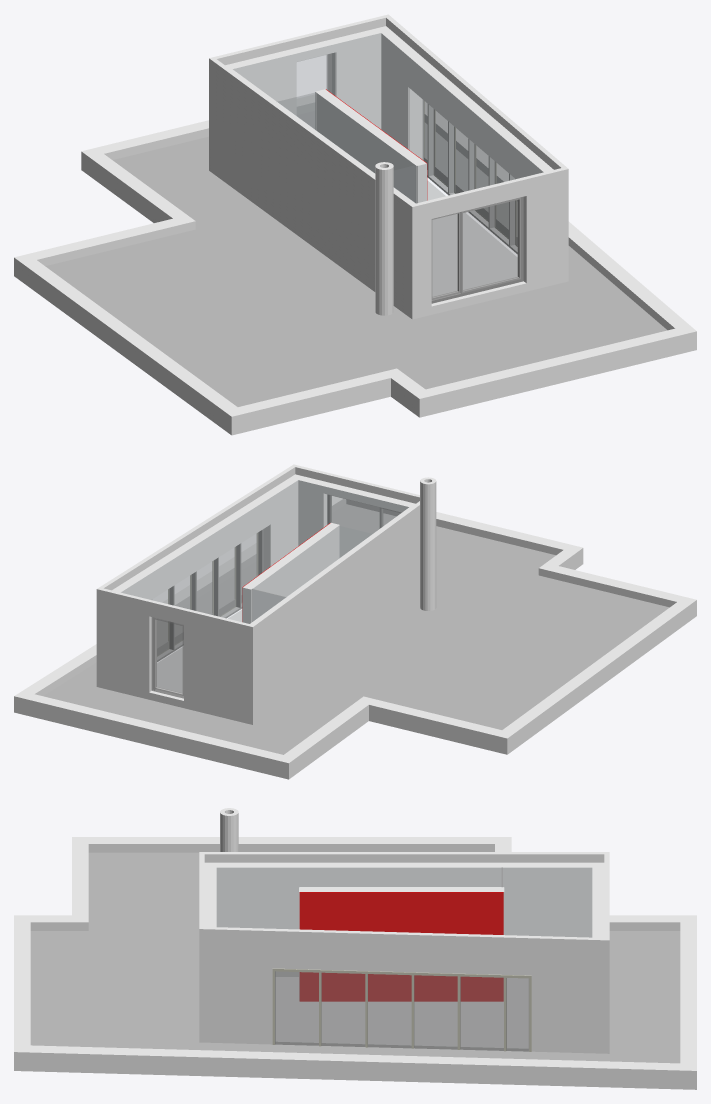
The picture shows the model from 3 angles, top to bottom: view 1: azimuth 30°, elevation 25°; view 2: azimuth 150°, elevation 25°; view 3: azimuth 270°, elevation 25°; orthographic projection. The views are drawn at different scales.
Parts seen in each view (by area): view 1: 0hm_TZ7fj2wQv5AxxV1KqF, 2WZdO$9lP51fVli8sT5dFZ, 1XbKhGD91DvhOpYZbhzGTI, 2ABTOtP4HAZgIuV7LUYbfs, 2eKNhkT$f0P8WjqeWWO9d3, 3v_fSEaFj0kvittt0GMC6P, 3VFVgZuu9FQuS2Mqppb_Sx, 1xDxwUqSzFmuKUZMtQ$inu, 0esmtE2Hf1Gh7NvUntvp15, 1E8YkwPMfB$h99jtn_uAjI, 2k7AL9Q4vAfOld2Ju8s3DV, 1BGpia0iv9cfH1lqT0_P80 (+15 smaller); view 2: 0hm_TZ7fj2wQv5AxxV1KqF, 2WZdO$9lP51fVli8sT5dFZ, 1mrgg_O_bBBv_tvdtVwK59, 1JvbY8kMDEABlCGvBALl1o, 3VFVgZuu9FQuS2Mqppb_Sx, 3v_fSEaFj0kvittt0GMC6P, 1E8YkwPMfB$h99jtn_uAjI, 3qjAeGBfzBuuFMRvmfvcZp, 12tTUwhDX7_Q0B3Y0eszsq, 1BGpia0iv9cfH1lqT0_P80, 3fk360iVDEdvsphxoNSy5M, 2eKNhkT$f0P8WjqeWWO9d3 (+16 smaller); view 3: 0hm_TZ7fj2wQv5AxxV1KqF, 1E8YkwPMfB$h99jtn_uAjI, 1BGpia0iv9cfH1lqT0_P80, 2D8Lqs0AfAL91eMWImqY0y, 0esmtE2Hf1Gh7NvUntvp15, 2WZdO$9lP51fVli8sT5dFZ, 3yGz3Axn9C_Oiq75x5GOZW, 3v_fSEaFj0kvittt0GMC6P, 0fovPR3hjBTOiDxHc0SKR9, 2UKE52UPL1ePRWFkZqVfWm, 28Fol_2rT8D93IPNMW2ztB, 14rw$C3xD3ZeUJL3YaqCEK (+13 smaller).
Part boxes in pixels (x1=…): 0hm_TZ7fj2wQv5AxxV1KqF: x1=45, y1=111, x2=667, y2=406; 2WZdO$9lP51fVli8sT5dFZ: x1=211, y1=59, x2=414, y2=317; 1XbKhGD91DvhOpYZbhzGTI: x1=409, y1=167, x2=568, y2=319; 2ABTOtP4HAZgIuV7LUYbfs: x1=431, y1=196, x2=523, y2=303; 2eKNhkT$f0P8WjqeWWO9d3: x1=416, y1=326, x2=696, y2=417; 3v_fSEaFj0kvittt0GMC6P: x1=16, y1=258, x2=242, y2=435; 3VFVgZuu9FQuS2Mqppb_Sx: x1=381, y1=32, x2=543, y2=178; 1xDxwUqSzFmuKUZMtQ$inu: x1=232, y1=32, x2=381, y2=129; 0esmtE2Hf1Gh7NvUntvp15: x1=427, y1=180, x2=517, y2=296; 1E8YkwPMfB$h99jtn_uAjI: x1=377, y1=14, x2=565, y2=171; 2k7AL9Q4vAfOld2Ju8s3DV: x1=234, y1=368, x2=401, y2=433; 1BGpia0iv9cfH1lqT0_P80: x1=424, y1=101, x2=693, y2=330; 0hm_TZ7fj2wQv5AxxV1KqF: x1=43, y1=504, x2=669, y2=754; 2WZdO$9lP51fVli8sT5dFZ: x1=250, y1=501, x2=419, y2=722; 1mrgg_O_bBBv_tvdtVwK59: x1=100, y1=588, x2=255, y2=724; 1JvbY8kMDEABlCGvBALl1o: x1=14, y1=692, x2=291, y2=779; 3VFVgZuu9FQuS2Mqppb_Sx: x1=120, y1=480, x2=298, y2=599; 3v_fSEaFj0kvittt0GMC6P: x1=502, y1=598, x2=696, y2=752; 1E8YkwPMfB$h99jtn_uAjI: x1=96, y1=466, x2=297, y2=687; 3qjAeGBfzBuuFMRvmfvcZp: x1=359, y1=696, x2=509, y2=754; 12tTUwhDX7_Q0B3Y0eszsq: x1=252, y1=525, x2=338, y2=621; 1BGpia0iv9cfH1lqT0_P80: x1=17, y1=496, x2=346, y2=695; 3fk360iVDEdvsphxoNSy5M: x1=151, y1=617, x2=183, y2=698; 2eKNhkT$f0P8WjqeWWO9d3: x1=346, y1=499, x2=583, y2=565; 0hm_TZ7fj2wQv5AxxV1KqF: x1=30, y1=852, x2=680, y2=1063; 1E8YkwPMfB$h99jtn_uAjI: x1=204, y1=927, x2=609, y2=1053; 1BGpia0iv9cfH1lqT0_P80: x1=19, y1=1045, x2=691, y2=1089; 2D8Lqs0AfAL91eMWImqY0y: x1=299, y1=892, x2=503, y2=1001; 0esmtE2Hf1Gh7NvUntvp15: x1=275, y1=977, x2=528, y2=1051; 2WZdO$9lP51fVli8sT5dFZ: x1=204, y1=852, x2=604, y2=887; 3yGz3Axn9C_Oiq75x5GOZW: x1=502, y1=867, x2=592, y2=937; 3v_fSEaFj0kvittt0GMC6P: x1=72, y1=837, x2=505, y2=852; 0fovPR3hjBTOiDxHc0SKR9: x1=216, y1=867, x2=301, y2=976; 2UKE52UPL1ePRWFkZqVfWm: x1=301, y1=867, x2=501, y2=886; 28Fol_2rT8D93IPNMW2ztB: x1=367, y1=974, x2=411, y2=1048; 14rw$C3xD3ZeUJL3YaqCEK: x1=321, y1=972, x2=365, y2=1046.
Size of the model in its own units: 11.94 by 3.75 by 14.73.
